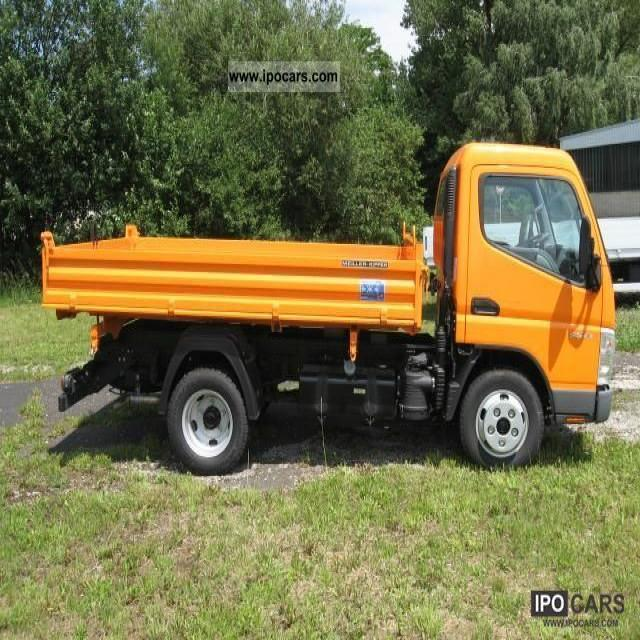truck: (38, 144, 616, 469)
